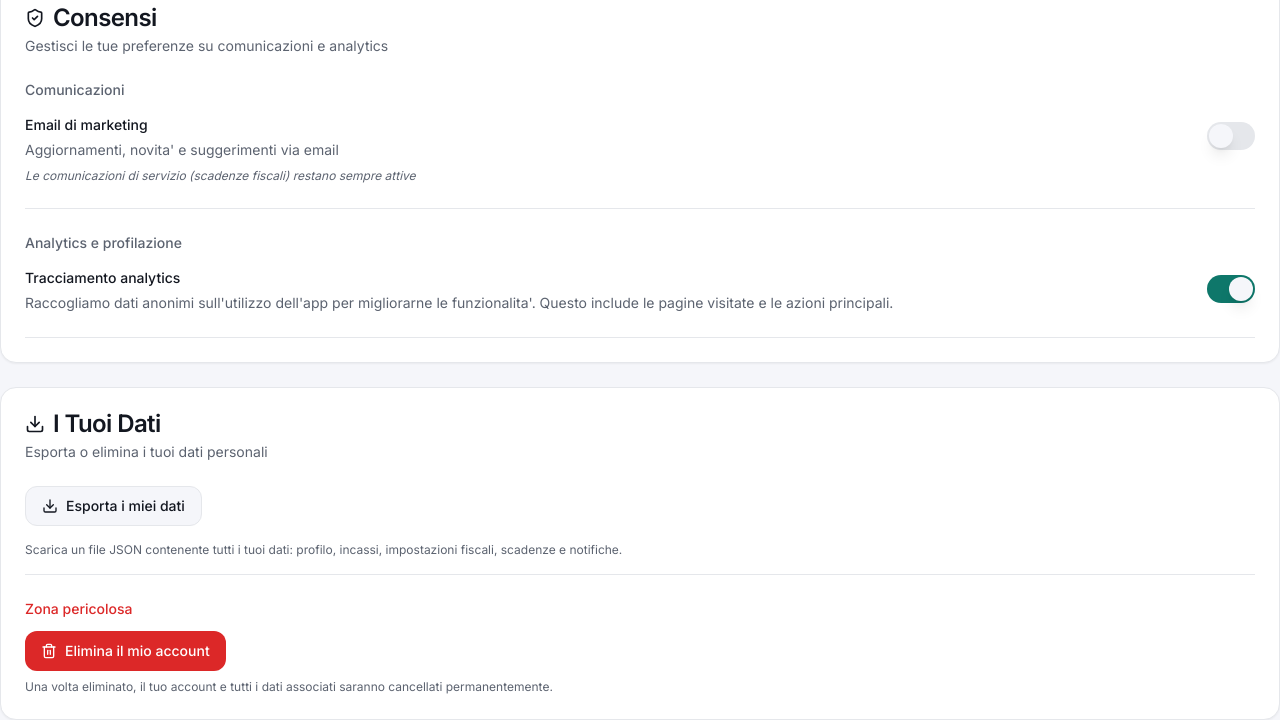
Test: PrivacyDataSection › delete account requires typing ELIMINA to enable button
(page scrolled)
Click the button "Elimina il mio account" at (125, 651), box [25,631,226,671]
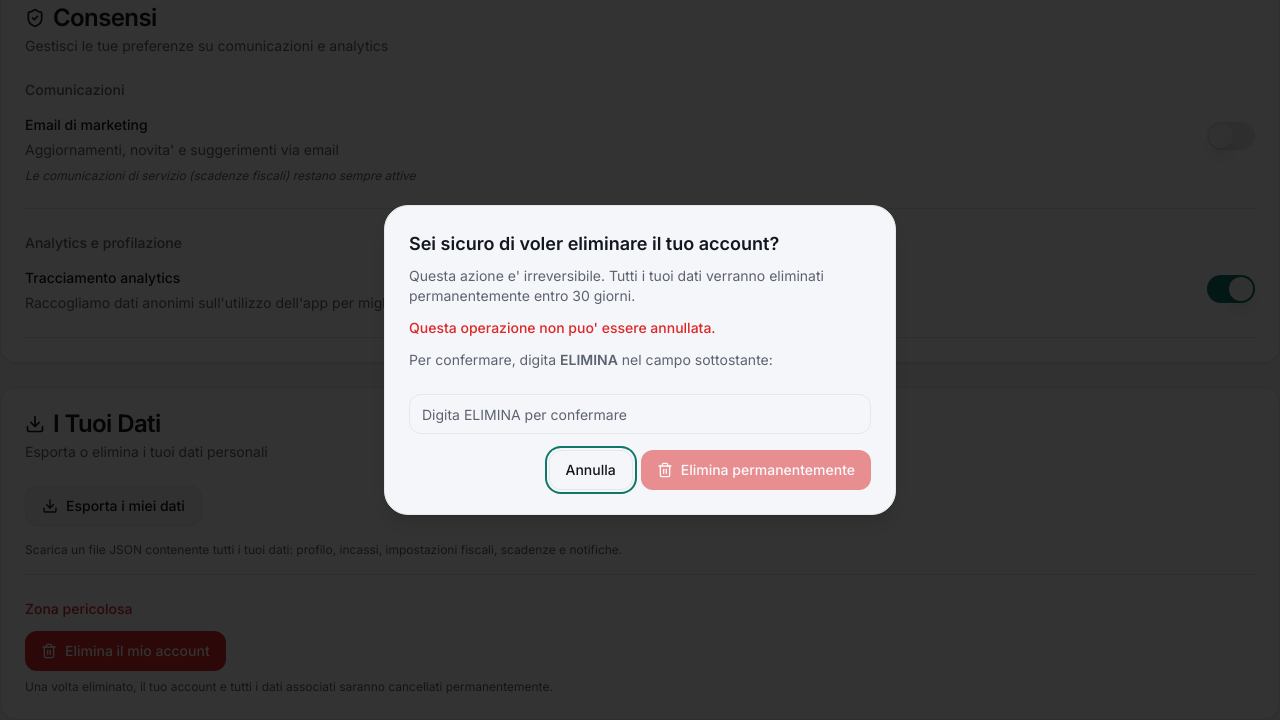
Check: the heading "Sei sicuro di voler eliminare il tuo account?" is shown, box [409,233,779,254]
Check: the button "Elimina permanentemente" is disabled, box [641,450,871,490]
Type "ELIMINA" into the field with placeholder "Digita ELIMINA per confermare" at (640, 414), box [409,394,871,434]
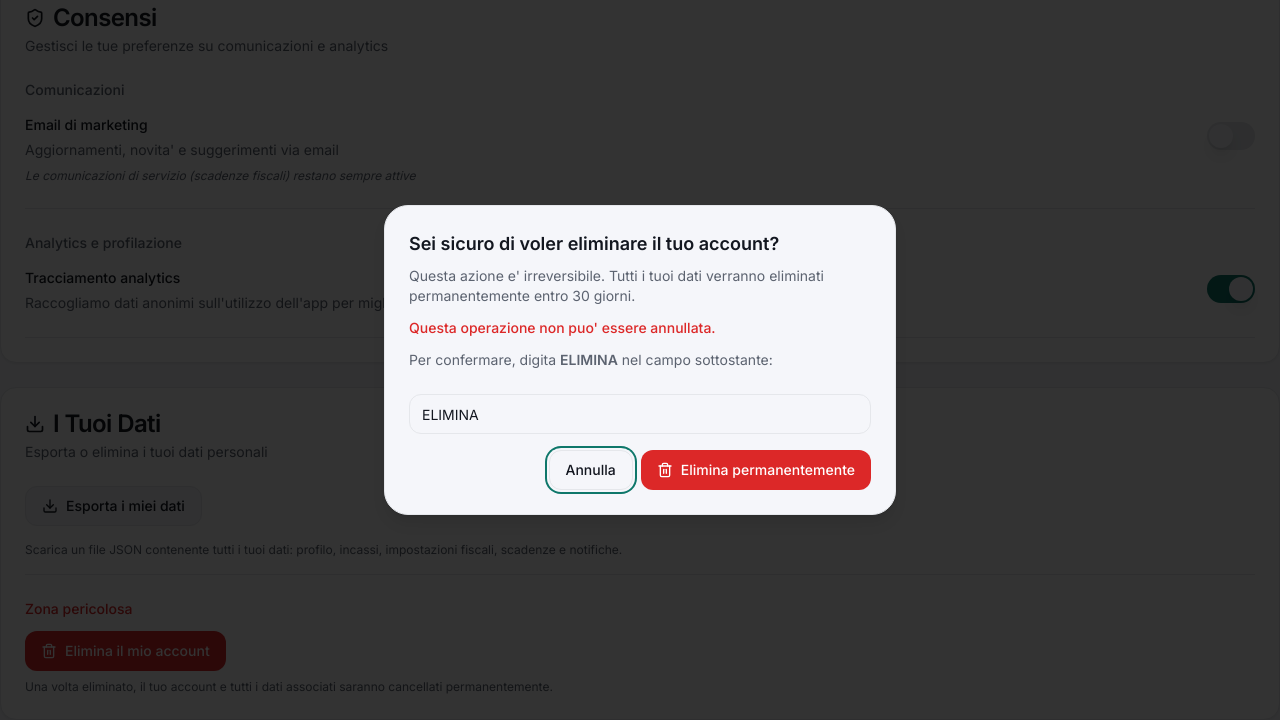
Check: the button "Elimina permanentemente" is enabled, box [641,450,871,490]
